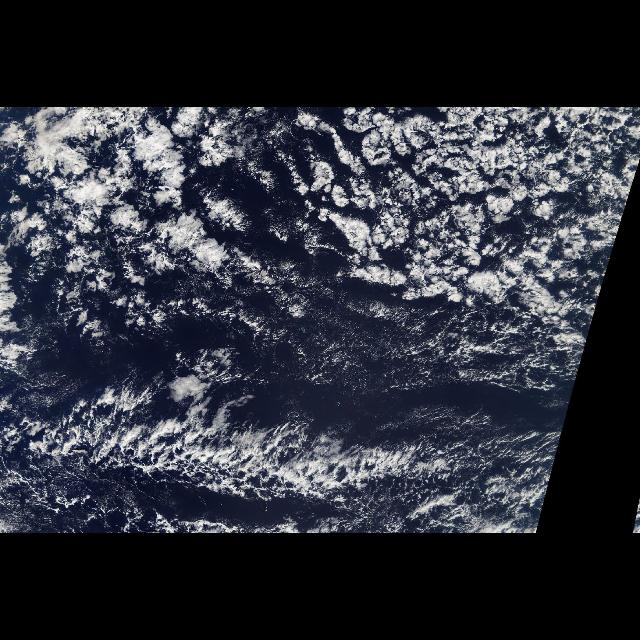Fish: (4, 362, 528, 518)
Flower: (6, 110, 620, 340)
Sugar: (219, 280, 573, 436)
